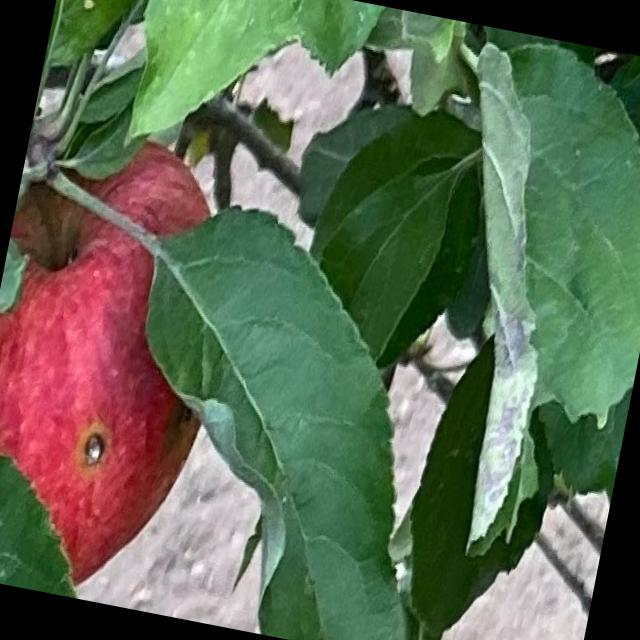Apples: (0, 119, 251, 605)
